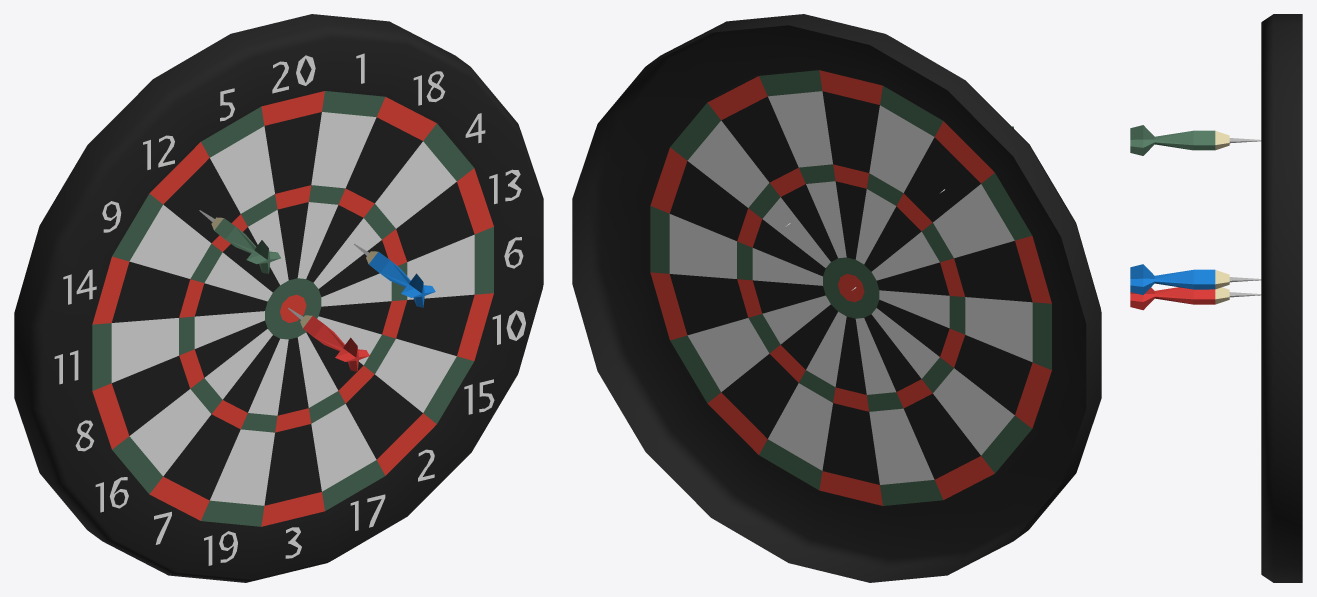
The model's file is entertainment_001.fbx.
3 renders of one model, left to right at view 1: azimuth 30°, elevation 25°; view 2: azimuth 150°, elevation 25°; view 3: azimuth 270°, elevation 25°, orthographic. The views are drawn at different scales.
Visible parts, largest first — view 1: entertainment_001; view 2: entertainment_001; view 3: entertainment_001.
Boxes of the visible parts, x1,y1,x2,y2 form: entertainment_001: [14, 14, 543, 582]; entertainment_001: [572, 14, 1101, 582]; entertainment_001: [1130, 14, 1302, 582].
Bounding box in the file's own units: 61.34 × 18.82 × 61.34.
